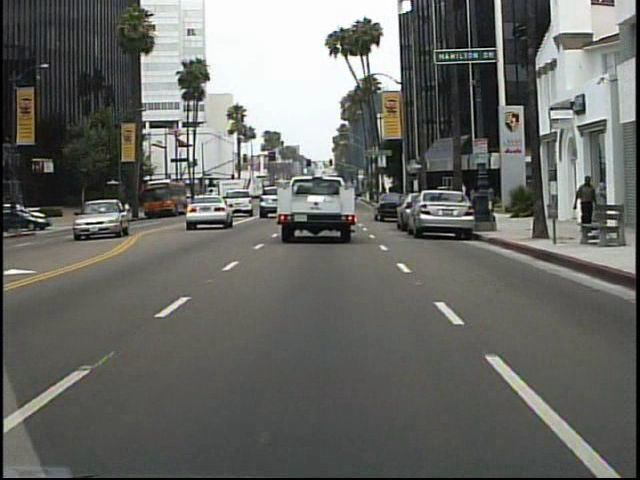person: (572, 175, 600, 235), (103, 194, 117, 223)
